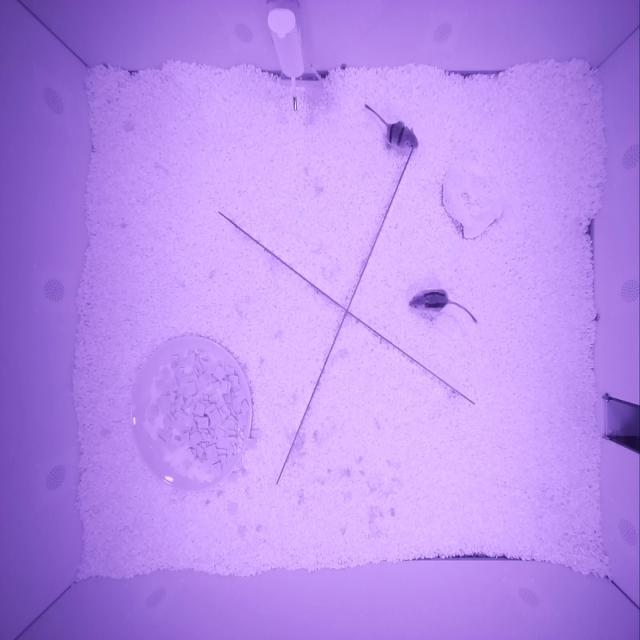pup_h_stripe: (385, 120, 418, 149)
pup_v_stripe: (408, 289, 449, 311)
